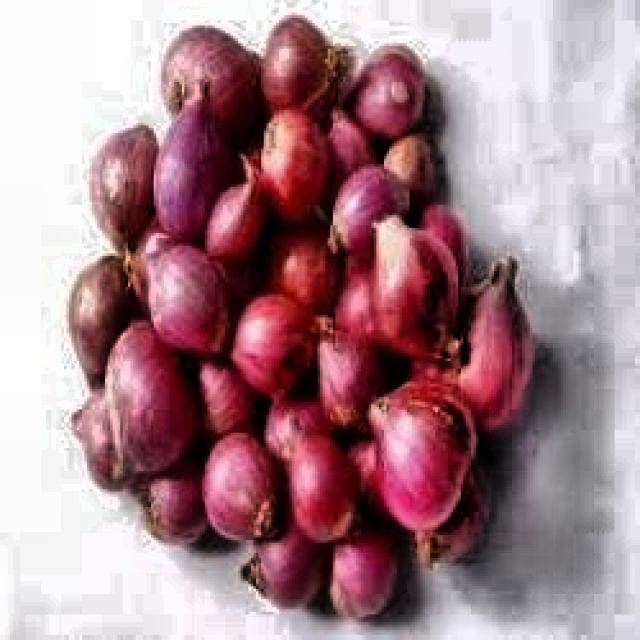onion: (45, 30, 528, 626)
